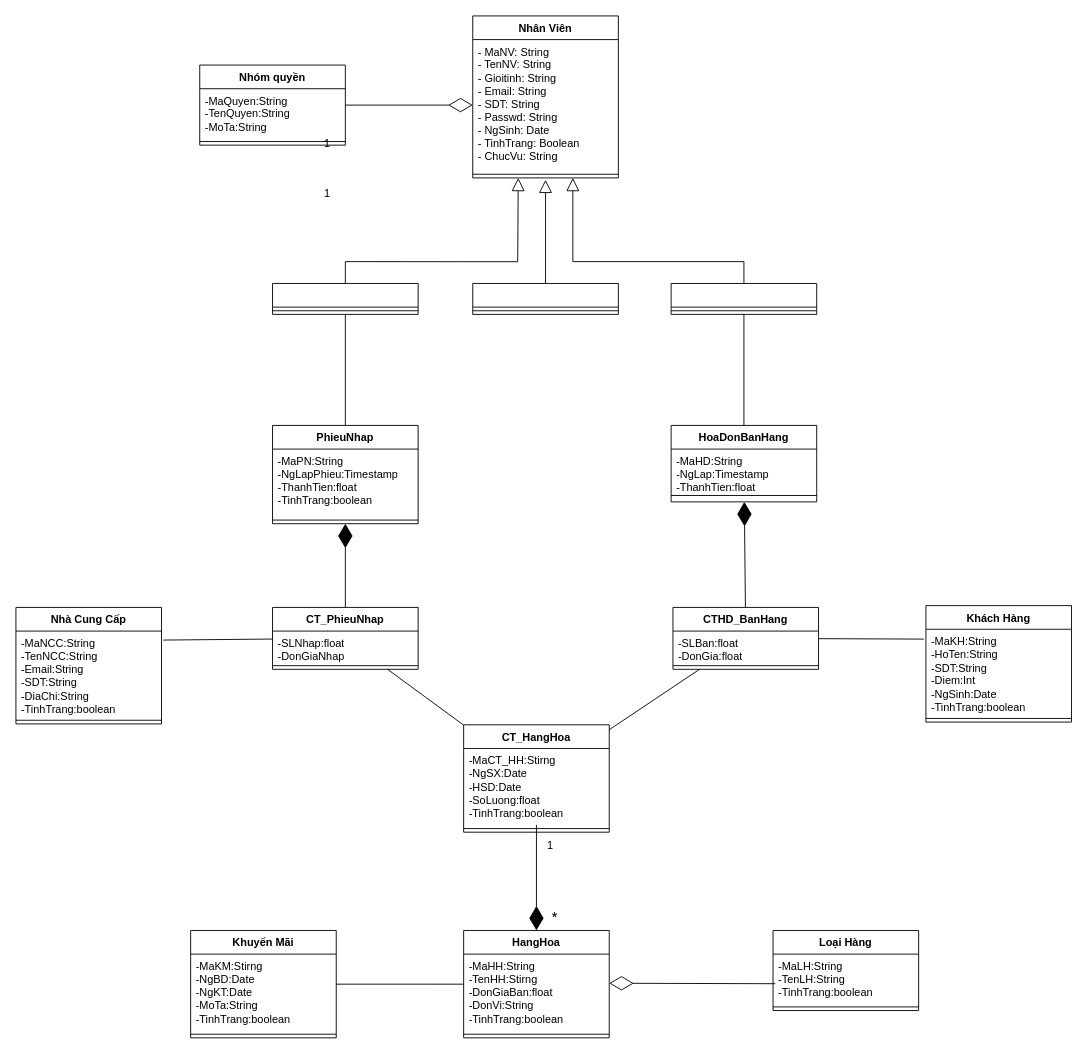
The diagram is 1087 pixels wide and 1054 high, and some of its shapes have lost their labels. The centre of each missing label's shape, as x and y in pixels:
"NV Bán Hàng" goes at point 743,298.
"NV Kho" goes at point 345,298.
"Quản Lý" goes at point 545,298.
